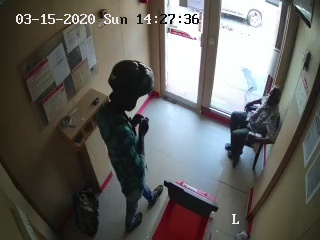helmet: (105, 61, 156, 114)
